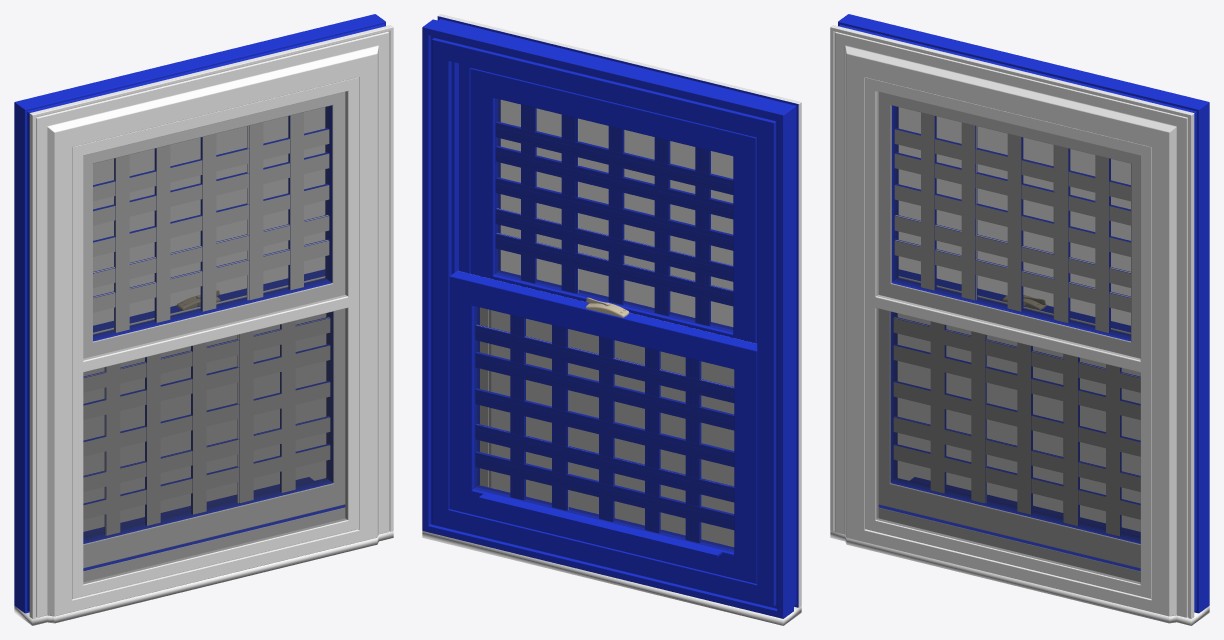
The model's file is TitanEdge.glb.
3 views of the same model, side by side, from view 1: azimuth 30°, elevation 25°; view 2: azimuth 150°, elevation 25°; view 3: azimuth 330°, elevation 25° (orthographic).
Visible parts, largest first — view 1: screen_glass1_full, window, screen_glass1_half, glass1, screen_frame_full, glass2, frame1, frame2, flat4_up, flat4_down, screen_frame_half, flat3_down (+9 smaller); view 2: window, glass2, glass1, frame2, frame1, flat4_down, flat4_up, flat3_down, gbg4_down, flat3_up, gbg4_up, gbg3_down (+16 smaller); view 3: screen_glass1_full, window, screen_glass1_half, glass1, screen_frame_full, glass2, frame1, frame2, flat4_up, flat4_down, screen_frame_half, flat3_down (+9 smaller).
Part boxes in pixels (box(x1,y1,x2,y2)): screen_glass1_full: box(83, 91, 347, 583); window: box(14, 14, 393, 618); screen_glass1_half: box(83, 309, 347, 583); glass1: box(93, 106, 329, 338); screen_frame_full: box(72, 77, 358, 598); glass2: box(83, 313, 328, 539); frame1: box(83, 92, 345, 358); frame2: box(83, 269, 345, 567); flat4_up: box(93, 112, 329, 332); flat4_down: box(83, 317, 329, 535); screen_frame_half: box(75, 295, 358, 591); flat3_down: box(83, 344, 329, 491); window: box(422, 14, 801, 618); glass2: box(474, 306, 733, 552); glass1: box(495, 98, 732, 332); frame2: box(449, 270, 757, 583); frame1: box(470, 68, 756, 343); flat4_down: box(475, 315, 734, 543); flat4_up: box(495, 104, 733, 325); flat3_down: box(475, 351, 734, 502); gbg4_down: box(475, 316, 734, 542); flat3_up: box(495, 145, 733, 281); gbg4_up: box(495, 105, 733, 325); gbg3_down: box(475, 357, 734, 497); screen_glass1_full: box(876, 91, 1140, 583); window: box(830, 14, 1209, 618); screen_glass1_half: box(877, 309, 1140, 583); glass1: box(894, 106, 1130, 338); screen_frame_full: box(865, 77, 1151, 598); glass2: box(895, 313, 1140, 539); frame1: box(878, 92, 1140, 358); frame2: box(878, 269, 1140, 567); flat4_up: box(894, 112, 1130, 332); flat4_down: box(894, 317, 1140, 535); screen_frame_half: box(865, 295, 1150, 592); flat3_down: box(894, 344, 1140, 491).
Size of the model in its own units: 0.5315 by 0.7181 by 0.0663.
